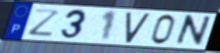0: (149, 14, 177, 45)
1: (99, 10, 117, 43)
3: (59, 8, 89, 41)
N: (172, 14, 213, 48)
V: (124, 12, 152, 44)
Z: (28, 8, 64, 38)
